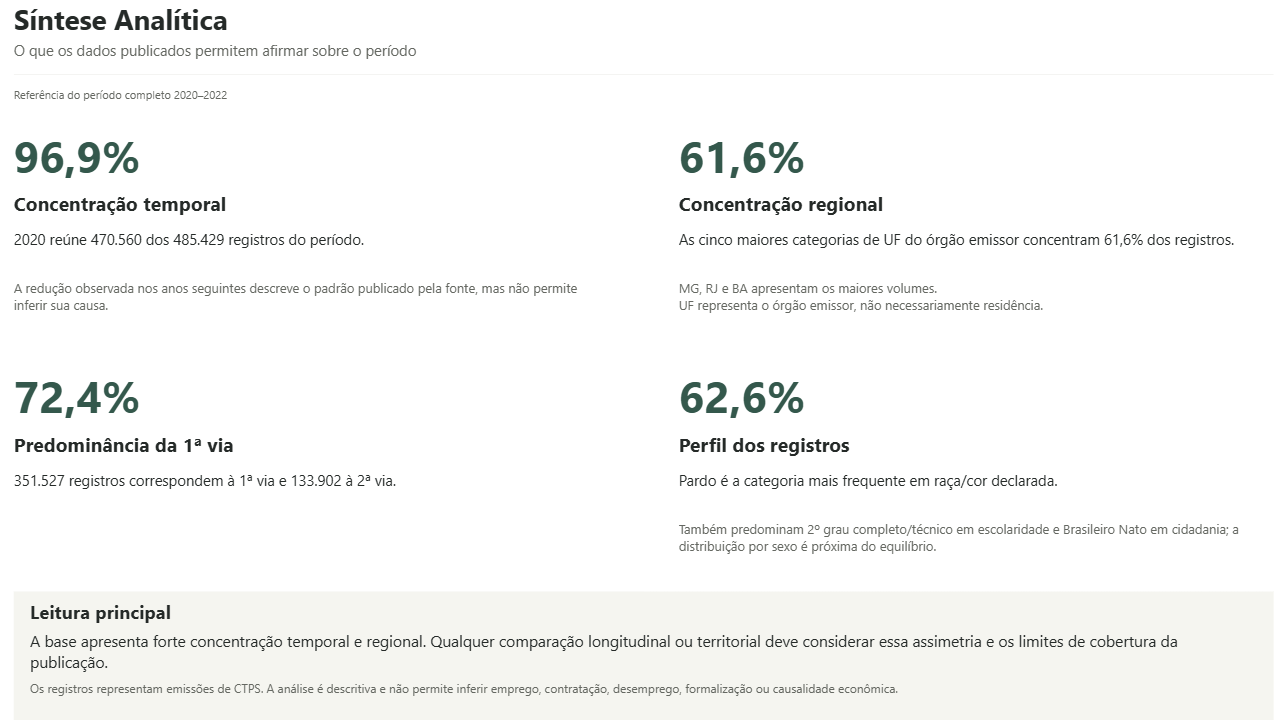

What the dashboard file says about the page in this screenshot:
{"tool":"powerbi","page":{"name":"Síntese Analítica","canvas":[1920,1080],"ordinal":3},"visuals":[{"type":"shape","box":[48,137,1824,1],"z":10},{"type":"shape","box":[48,887,1824,187],"z":10},{"type":"textbox","box":[48,155,1824,40],"z":1000},{"type":"textbox","box":[48,211,860,90],"z":1000},{"type":"textbox","box":[1012,211,860,90],"z":1000},{"type":"textbox","box":[48,306,860,48],"z":1000},{"type":"textbox","box":[1012,306,860,48],"z":1000},{"type":"textbox","box":[48,434,860,88],"z":1000},{"type":"textbox","box":[1012,434,860,88],"z":1000},{"type":"textbox","box":[48,560,860,90],"z":1000},{"type":"textbox","box":[1012,560,860,90],"z":1000},{"type":"textbox","box":[48,655,860,48],"z":1000},{"type":"textbox","box":[1012,655,860,48],"z":1000},{"type":"textbox","box":[1012,783,860,88],"z":1000},{"type":"textbox","box":[72,897,1776,44],"z":1000},{"type":"textbox","box":[72,942,1776,72],"z":1000},{"type":"textbox","box":[72,1016,1776,52],"z":1000},{"type":"textbox","box":[48,88,1700,44],"z":4000},{"type":"textbox","box":[48,30,1600,62],"z":5000},{"type":"textbox","box":[48,362,860,64],"z":6000},{"type":"textbox","box":[1012,362,860,64],"z":7000},{"type":"textbox","box":[48,711,860,64],"z":8000},{"type":"textbox","box":[1012,711,860,64],"z":9000}]}

Visuals, with their boxes in screenshot pixels (x1, y1, x2, y2), scaled from the page's 1920x1080 canvas onto the 1281x722 screenshot:
shape: BBox(32, 593, 1249, 718)
textbox: BBox(32, 104, 1249, 130)
textbox: BBox(32, 141, 606, 201)
textbox: BBox(675, 141, 1249, 201)
textbox: BBox(32, 205, 606, 237)
textbox: BBox(675, 205, 1249, 237)
textbox: BBox(32, 290, 606, 349)
textbox: BBox(675, 290, 1249, 349)
textbox: BBox(32, 374, 606, 435)
textbox: BBox(675, 374, 1249, 435)
textbox: BBox(32, 438, 606, 470)
textbox: BBox(675, 438, 1249, 470)
textbox: BBox(675, 523, 1249, 582)
textbox: BBox(48, 600, 1233, 629)
textbox: BBox(48, 630, 1233, 678)
textbox: BBox(48, 679, 1233, 714)
textbox: BBox(32, 59, 1166, 88)
textbox: BBox(32, 20, 1100, 62)
textbox: BBox(32, 242, 606, 285)
textbox: BBox(675, 242, 1249, 285)
textbox: BBox(32, 475, 606, 518)
textbox: BBox(675, 475, 1249, 518)
